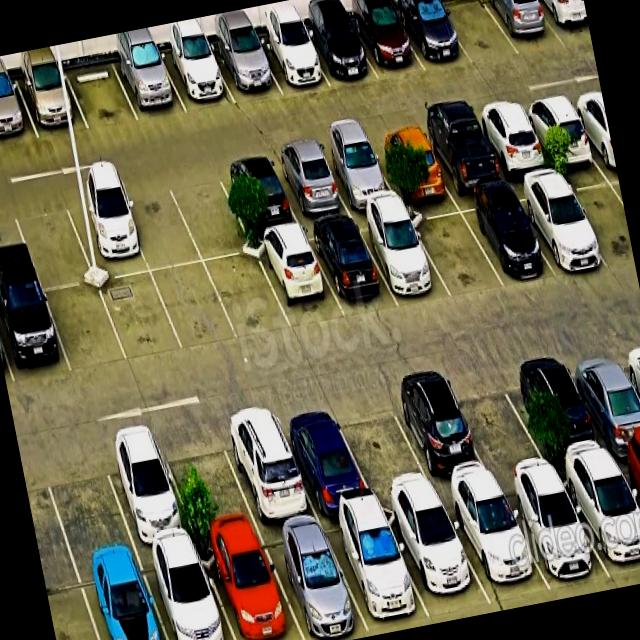car: (321, 508, 432, 636), (385, 372, 497, 495), (258, 521, 370, 640), (441, 484, 551, 604), (499, 473, 611, 590), (382, 498, 492, 617), (215, 403, 318, 529), (513, 349, 614, 469), (97, 429, 196, 551), (273, 398, 375, 516), (197, 532, 304, 640), (557, 458, 640, 584), (509, 174, 609, 273), (456, 190, 553, 286), (139, 543, 235, 640), (253, 229, 344, 331), (305, 219, 398, 317), (563, 341, 640, 457), (355, 210, 451, 303), (62, 186, 150, 281), (76, 554, 167, 640), (0, 287, 71, 385), (418, 115, 506, 194), (216, 155, 301, 236), (269, 146, 351, 223), (316, 137, 399, 212), (368, 126, 452, 199), (472, 103, 553, 178), (520, 94, 600, 167), (348, 6, 425, 80), (393, 0, 473, 71), (301, 18, 378, 86), (112, 53, 187, 121), (159, 46, 236, 112), (16, 69, 88, 138), (254, 30, 330, 94), (210, 38, 282, 103), (484, 0, 565, 54), (0, 78, 39, 145), (536, 0, 592, 45)
free: (446, 361, 553, 482), (156, 420, 259, 541), (330, 387, 437, 503), (38, 439, 135, 565), (406, 201, 504, 297), (166, 165, 254, 262), (11, 195, 95, 289), (118, 178, 202, 271), (99, 272, 184, 363), (560, 165, 635, 267), (152, 263, 238, 351), (45, 283, 128, 374), (205, 254, 291, 340), (436, 0, 519, 65), (65, 60, 139, 129)
